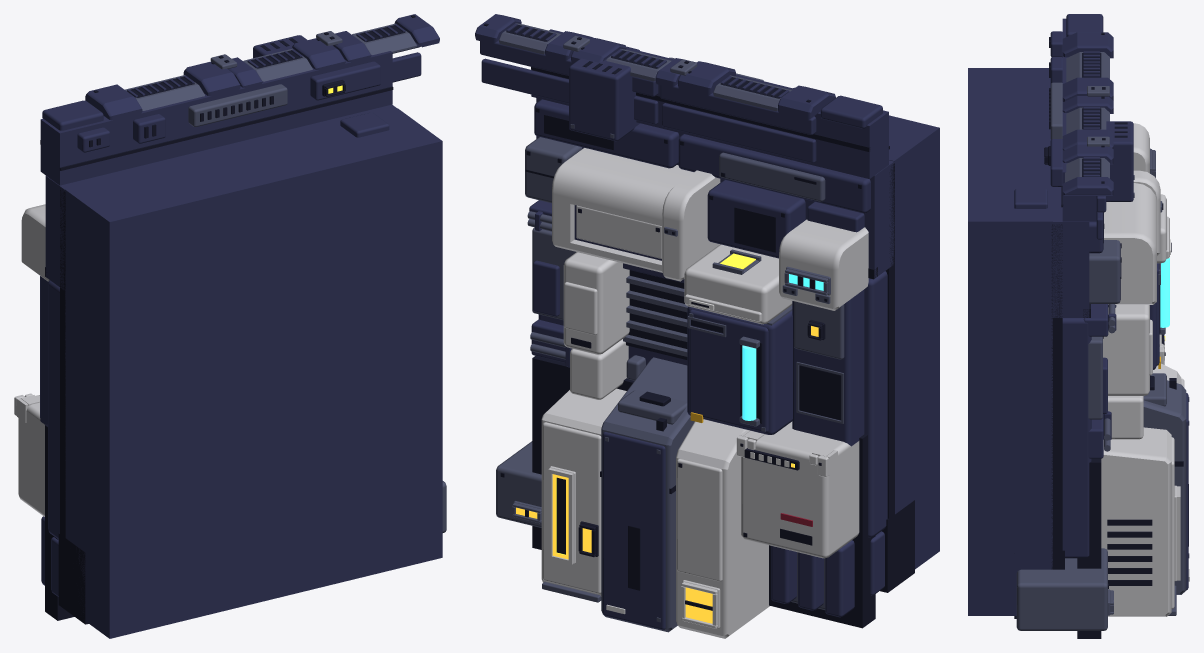
The model's file is hull.bay.cluster.light.navy.louvre.w3.000.s0.k-2.35.glb.
3 renders of one model, left to right at view 1: azimuth 30°, elevation 25°; view 2: azimuth 150°, elevation 25°; view 3: azimuth 270°, elevation 25°, orthographic. The views are drawn at different scales.
Visible parts, largest first — view 1: hull.bay.cluster.light.navy.louvre.w3.000.s0.k-2.35; view 2: hull.bay.cluster.light.navy.louvre.w3.000.s0.k-2.35; view 3: hull.bay.cluster.light.navy.louvre.w3.000.s0.k-2.35.
Part boxes in pixels (box(x1,y1,x2,y2)): hull.bay.cluster.light.navy.louvre.w3.000.s0.k-2.35: box(14, 14, 446, 638); hull.bay.cluster.light.navy.louvre.w3.000.s0.k-2.35: box(475, 14, 939, 638); hull.bay.cluster.light.navy.louvre.w3.000.s0.k-2.35: box(968, 14, 1189, 638).
Bounding box in the file's own units: 3.44 × 4.48 × 1.83.
